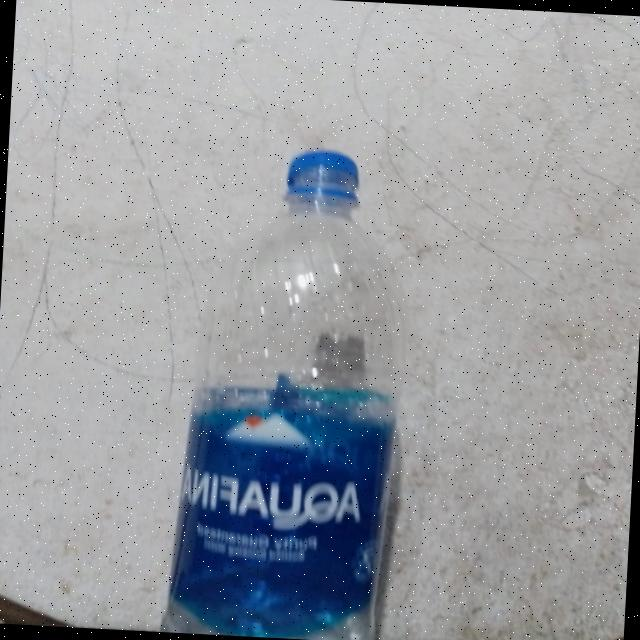bottle: (164, 129, 417, 640)
cap: (282, 143, 368, 215)
label: (164, 377, 406, 640)
